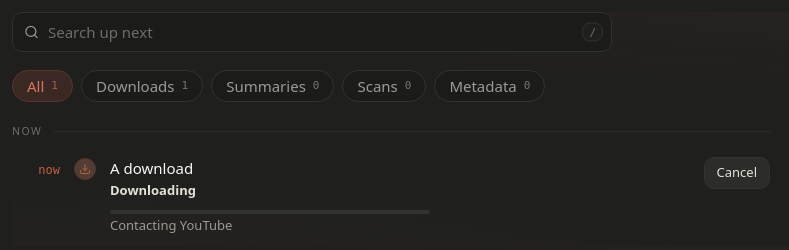
UpNext filters › does not blame the schedule under a filter it has no part in
The image size is (789, 250).
Expected: the text "A download" is shown, [110,158,193,178]
Step 1. Click the button "Summaries 0" → (273, 86), box [211,70,334,102]
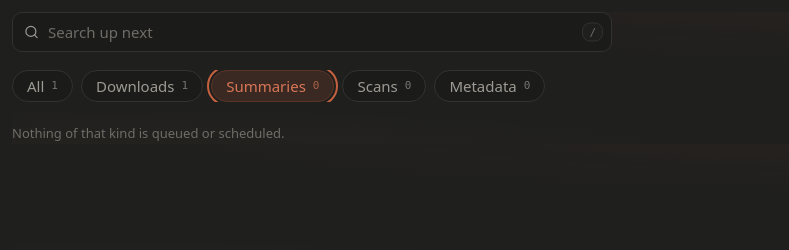
Now the text "Nothing of that kind is queued or scheduled." is shown, box [12,124,284,142]
